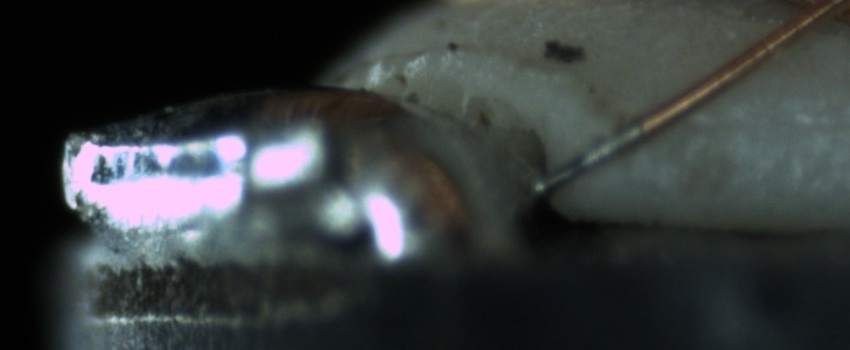CL: (770, 0, 849, 43)
DL: (680, 93, 849, 156)
TS: (528, 122, 645, 195)
TTCW: (534, 111, 655, 195)
